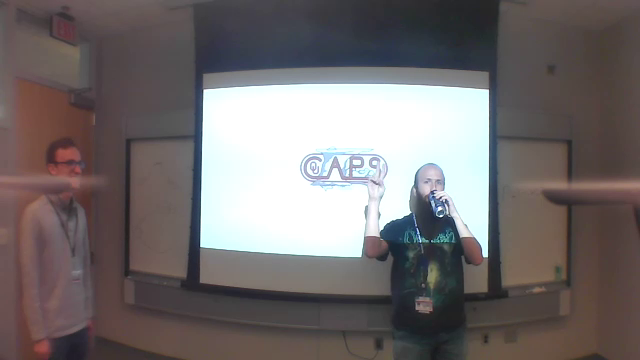peace: (362, 155, 392, 201)
